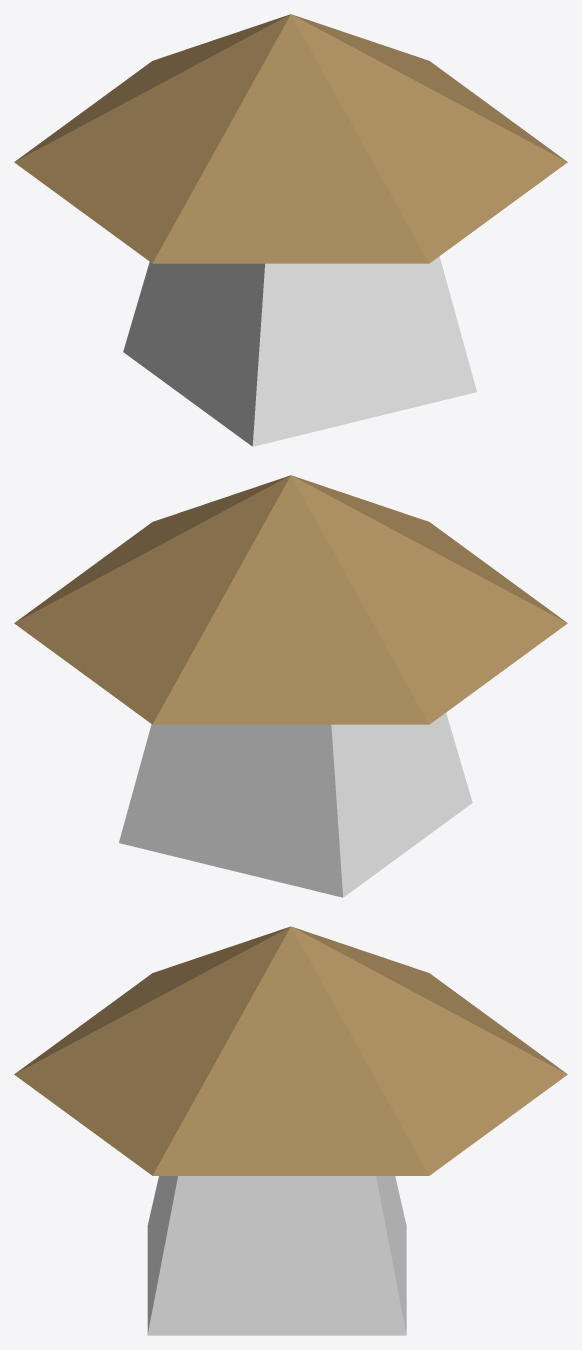
File: Mushroom_Brown_01.obj
3 views of the same model, one above another, from view 1: azimuth 30°, elevation 25°; view 2: azimuth 150°, elevation 25°; view 3: azimuth 270°, elevation 25° (orthographic).
Parts seen in each view (by area): view 1: Mesh1_Mushroom_Brown_Model; view 2: Mesh1_Mushroom_Brown_Model; view 3: Mesh1_Mushroom_Brown_Model.
Part boxes in pixels (box(x1,y1,x2,y2)): Mesh1_Mushroom_Brown_Model: box(14, 14, 567, 446); Mesh1_Mushroom_Brown_Model: box(14, 475, 567, 897); Mesh1_Mushroom_Brown_Model: box(14, 926, 567, 1335).
Bounding box in the file's own units: 0.4349 × 0.3535 × 0.5022.
